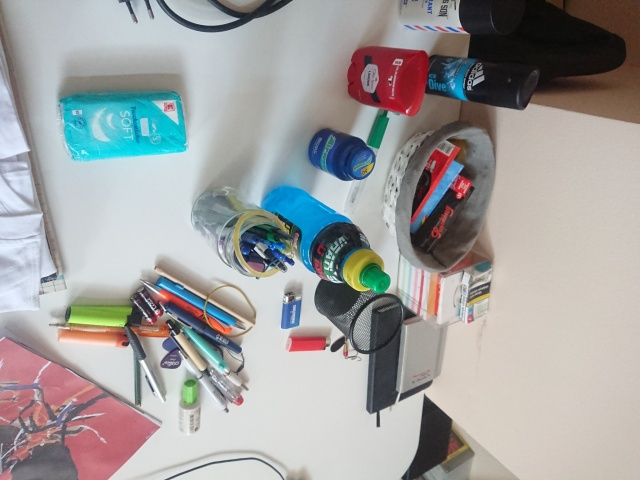Vindi Iso Sport Forest Strawberries 500mL: (259, 184, 392, 295)
